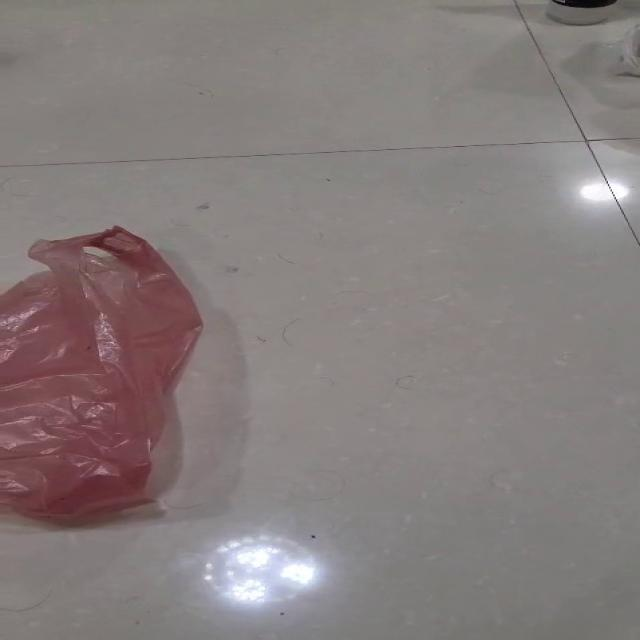plastic: (0, 223, 204, 520)
